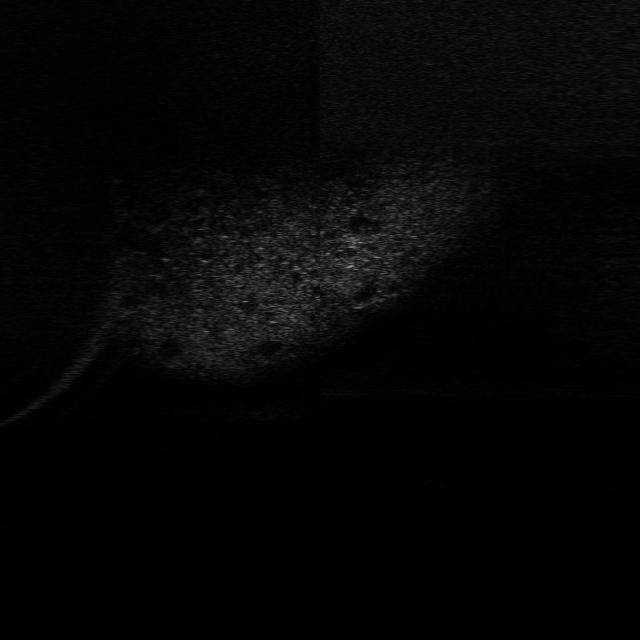cube: (414, 461, 476, 494)
